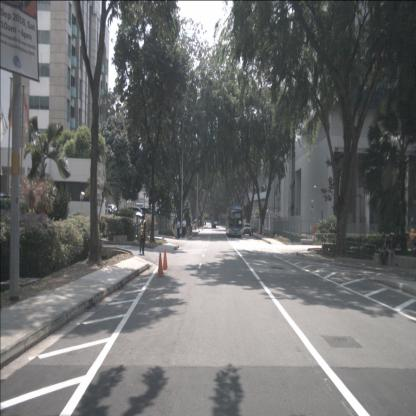cone: (156, 251, 165, 278), (162, 248, 169, 270)
